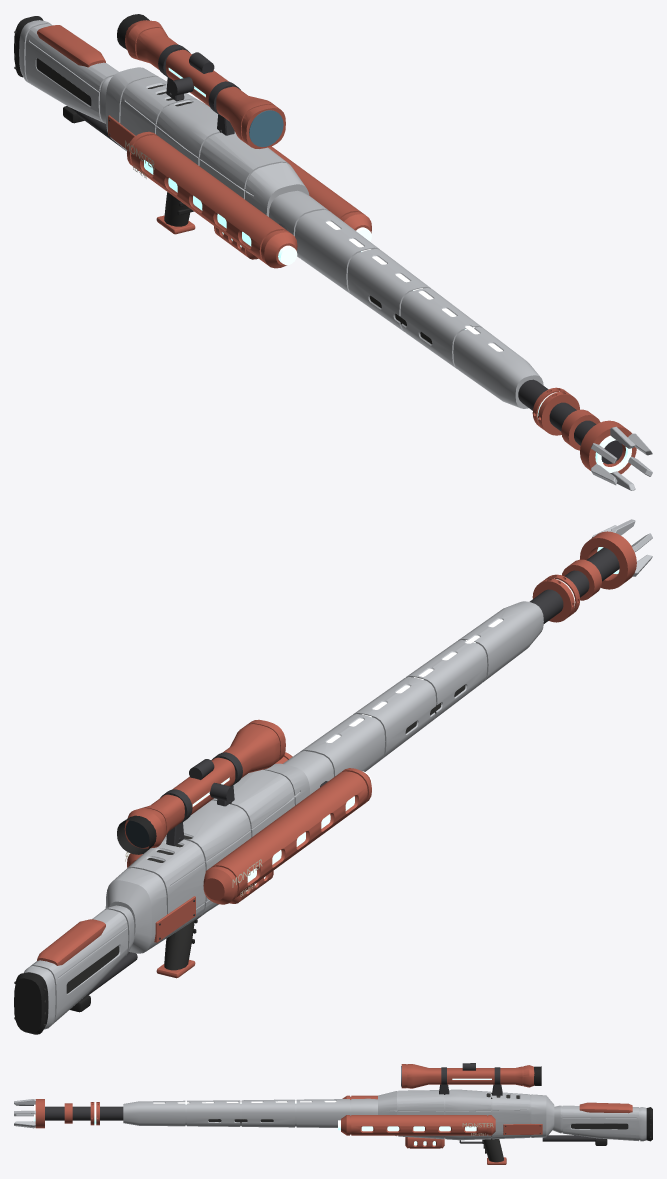
The model's file is monster.glb.
3 renders of one model, top to bottom at view 1: azimuth 30°, elevation 25°; view 2: azimuth 150°, elevation 25°; view 3: azimuth 270°, elevation 25°, orthographic. The views are drawn at different scales.
Visible parts, largest first — view 1: Body; view 2: Body; view 3: Body.
Part boxes in pixels (x1,y1,x2,y2): Body: (14, 14, 652, 490); Body: (14, 519, 652, 1034); Body: (14, 1063, 652, 1164).
Bounding box in the file's own units: 0.168 × 0.2796 × 1.63.
